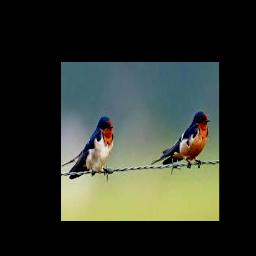Swallow: (151, 111, 211, 167), (62, 116, 115, 179)
